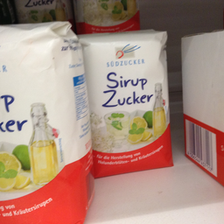sugar: (2, 21, 93, 224), (80, 29, 176, 180)
